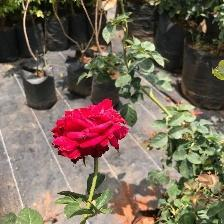rose: (50, 98, 132, 166)
